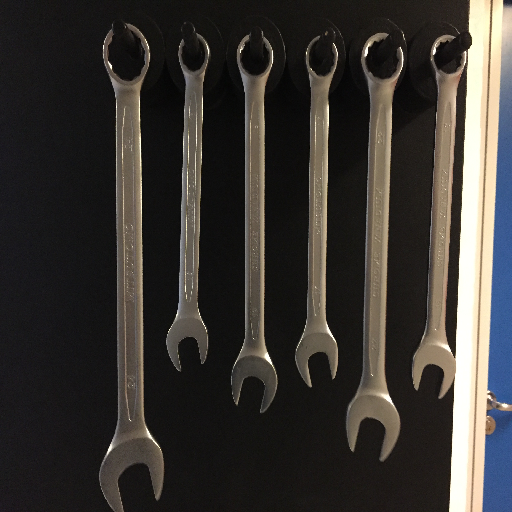bottom: (94, 436, 171, 512), (344, 390, 402, 461), (406, 337, 460, 401), (227, 351, 280, 415), (162, 316, 213, 374), (293, 333, 342, 391)
top: (97, 21, 153, 85), (360, 29, 407, 86), (233, 29, 278, 83), (428, 32, 469, 78), (303, 32, 340, 79), (173, 32, 211, 77)
